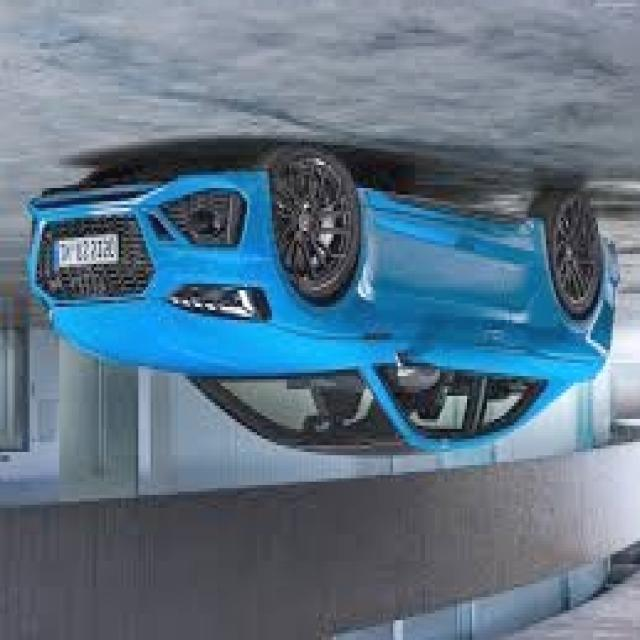blue: (18, 165, 640, 465)
